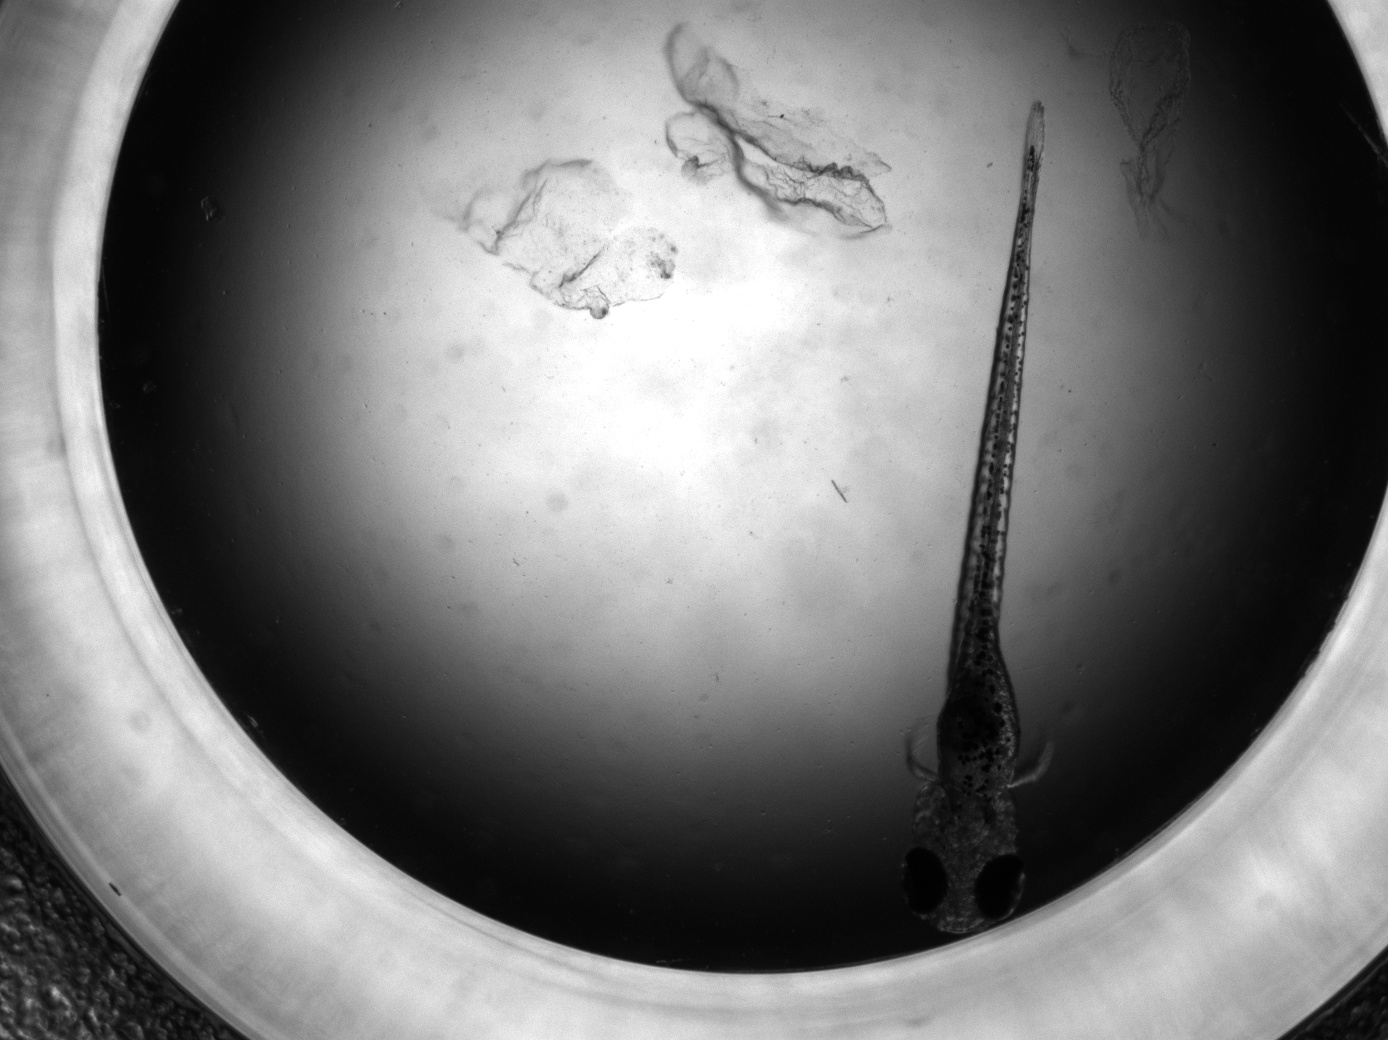debris: (664, 23, 891, 240), (456, 157, 683, 321), (1108, 14, 1199, 243)
embryo: (898, 95, 1051, 935)
eye: (975, 853, 1025, 922), (900, 847, 949, 915)
